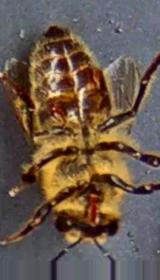varroa_mite: (38, 90, 72, 130)
